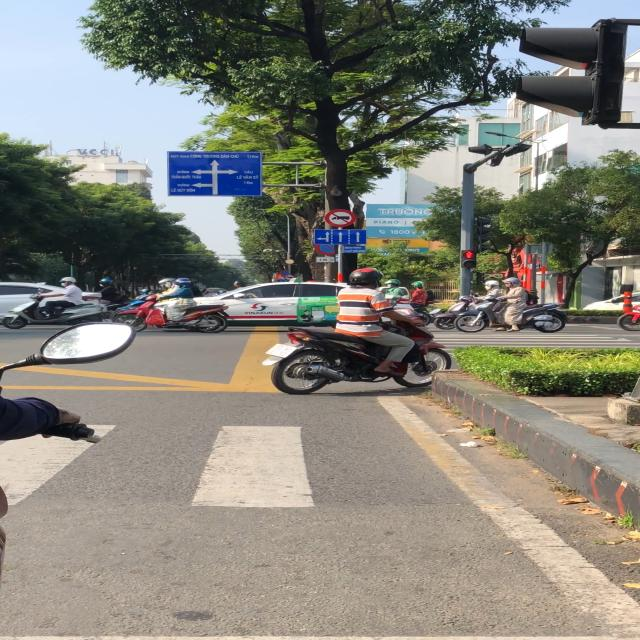Bien bao cam xe so-mi ro-mooc: (324, 207, 359, 229)
